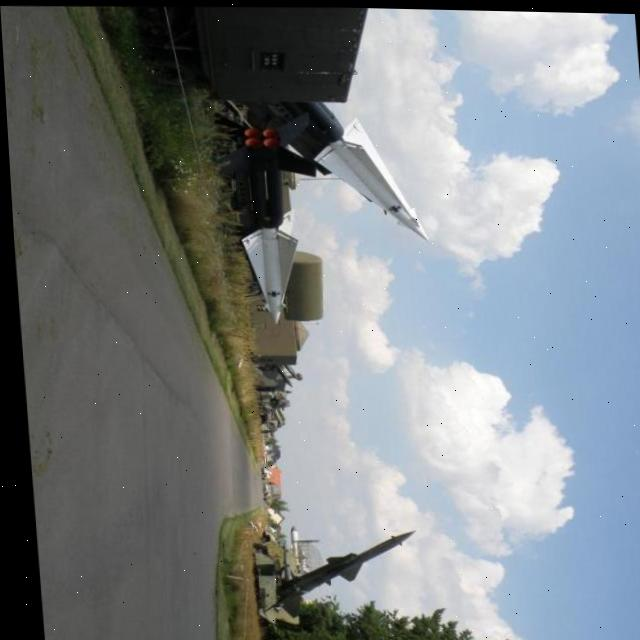missile: (301, 107, 436, 247), (268, 519, 415, 608), (230, 184, 302, 320)
